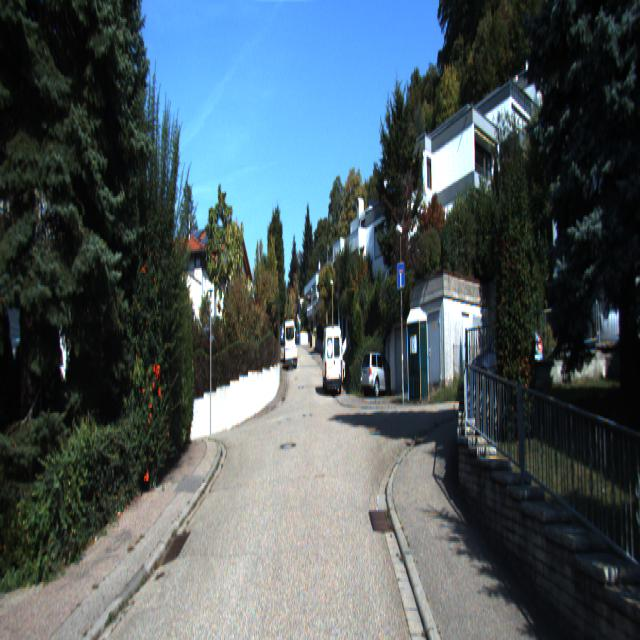Car: (358, 349, 398, 399), (322, 323, 344, 397), (284, 320, 295, 364), (285, 348, 299, 370)
